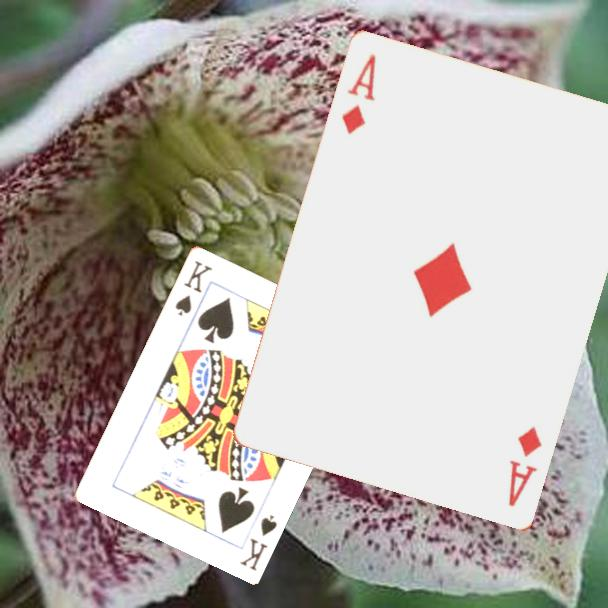d01: (338, 51, 379, 138), (505, 423, 545, 510)
s13: (171, 257, 215, 319), (236, 511, 280, 573)
